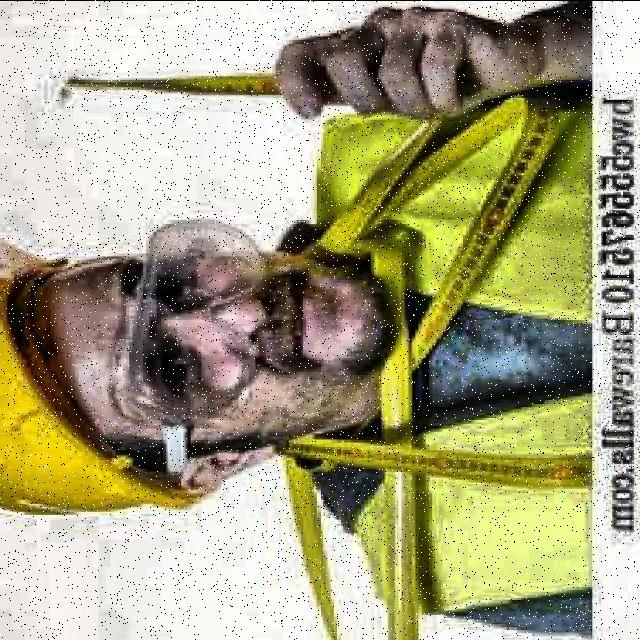Goggles: (119, 200, 271, 492)
